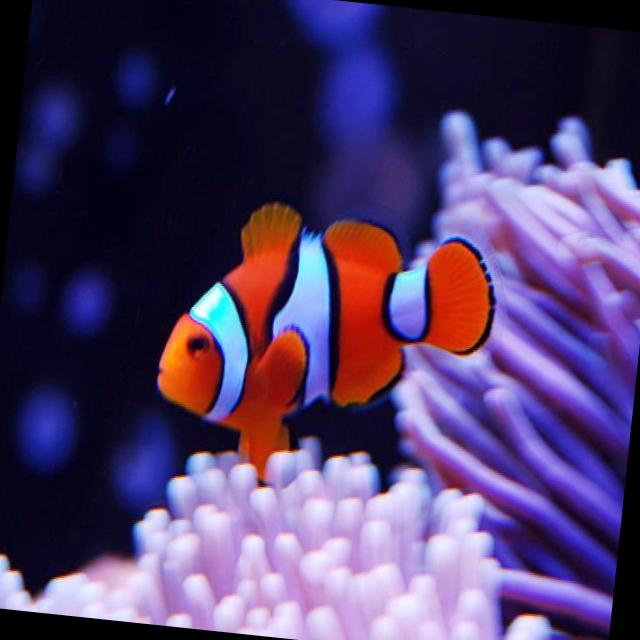ClownFish: (143, 196, 502, 497)
